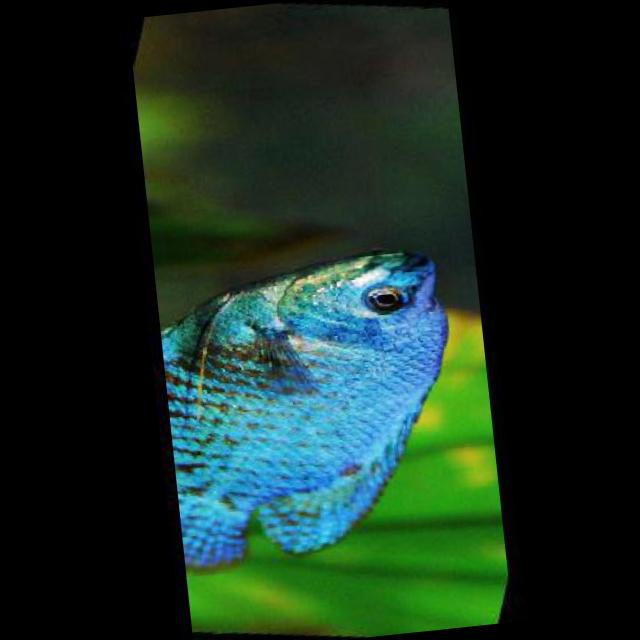Gourami: (156, 244, 470, 576)
